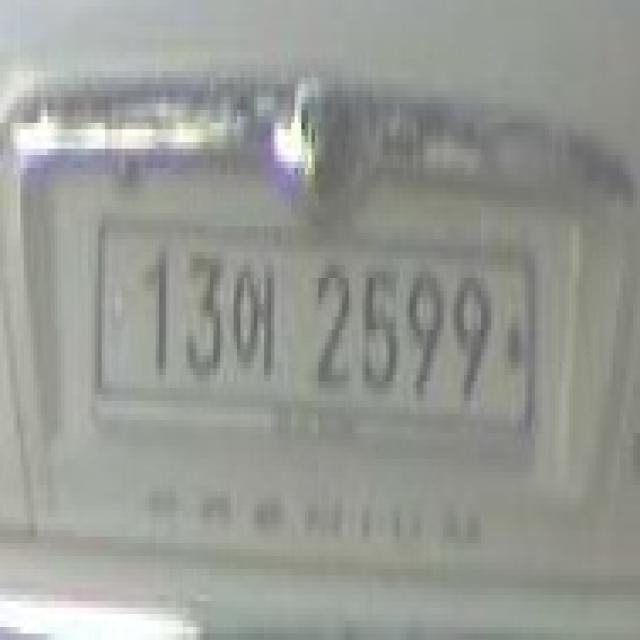1: (136, 246, 180, 388)
2: (308, 258, 356, 401)
3: (180, 246, 223, 394)
5: (352, 258, 403, 414)
9: (447, 258, 505, 426), (399, 265, 454, 433)
eo: (227, 252, 281, 388)
license_plate: (88, 207, 542, 478)
